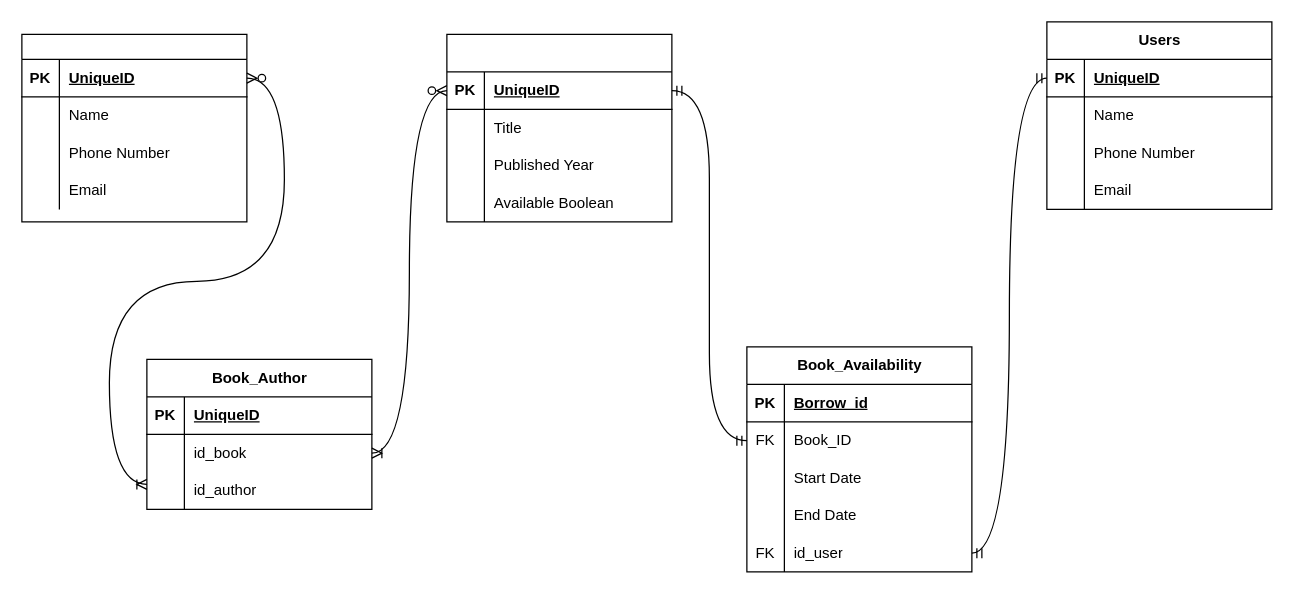
Some shapes in this 1294 by 594 pixel diagram are drawn without their labels. The shapes that lost their labels are listed below. From the top down, each one's box as (x1, y1, x2, y2) in pixels, then its label:
(21, 33, 247, 222): Authors
(446, 33, 672, 222): Books
